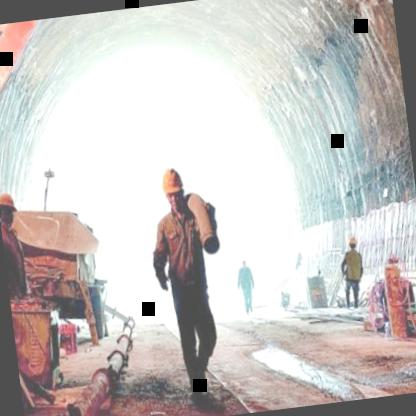helmet: (155, 164, 188, 215), (0, 187, 18, 235)
